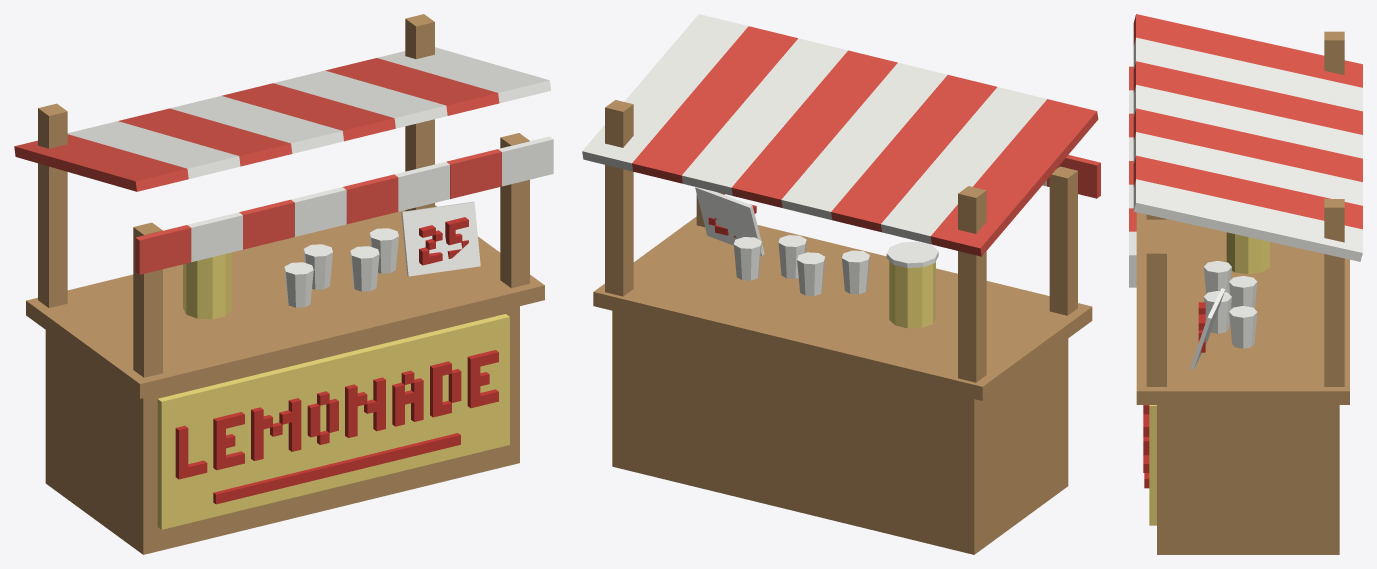
The model's file is lemonade-stand.glb.
3 views of the same model, side by side, from view 1: azimuth 30°, elevation 25°; view 2: azimuth 150°, elevation 25°; view 3: azimuth 270°, elevation 25° (orthographic). The views are drawn at different scales.
Visible parts, largest first — view 1: LemonadeStand_Wood, LemonadeStand_Panel, LemonadeStand_AwnRed, LemonadeStand_AwnWhite, LemonadeStand_Letters, LemonadeStand_Cups, LemonadeStand_Lemon; view 2: LemonadeStand_Wood, LemonadeStand_AwnRed, LemonadeStand_AwnWhite, LemonadeStand_Cups, LemonadeStand_Lemon; view 3: LemonadeStand_Wood, LemonadeStand_AwnWhite, LemonadeStand_AwnRed, LemonadeStand_Cups, LemonadeStand_Lemon, LemonadeStand_Panel, LemonadeStand_Letters.
Boxes of the visible parts, <box> form: LemonadeStand_Wood: <box>26,14,544,554</box>; LemonadeStand_Panel: <box>157,314,509,529</box>; LemonadeStand_AwnRed: <box>14,58,501,274</box>; LemonadeStand_AwnWhite: <box>67,47,553,262</box>; LemonadeStand_Letters: <box>175,217,498,504</box>; LemonadeStand_Cups: <box>284,201,480,307</box>; LemonadeStand_Lemon: <box>183,252,231,319</box>; LemonadeStand_Wood: <box>593,100,1092,554</box>; LemonadeStand_AwnRed: <box>632,26,1100,256</box>; LemonadeStand_AwnWhite: <box>582,14,1046,244</box>; LemonadeStand_Cups: <box>695,187,938,295</box>; LemonadeStand_Lemon: <box>889,261,935,328</box>; LemonadeStand_Wood: <box>1136,31,1349,554</box>; LemonadeStand_AwnWhite: <box>1129,37,1362,287</box>; LemonadeStand_AwnRed: <box>1129,14,1362,231</box>; LemonadeStand_Cups: <box>1190,261,1257,369</box>; LemonadeStand_Lemon: <box>1226,232,1269,274</box>; LemonadeStand_Panel: <box>1149,405,1156,525</box>; LemonadeStand_Letters: <box>1143,302,1205,488</box>.
Bounding box in the file's own units: 8.8 × 7.84 × 4.61.
